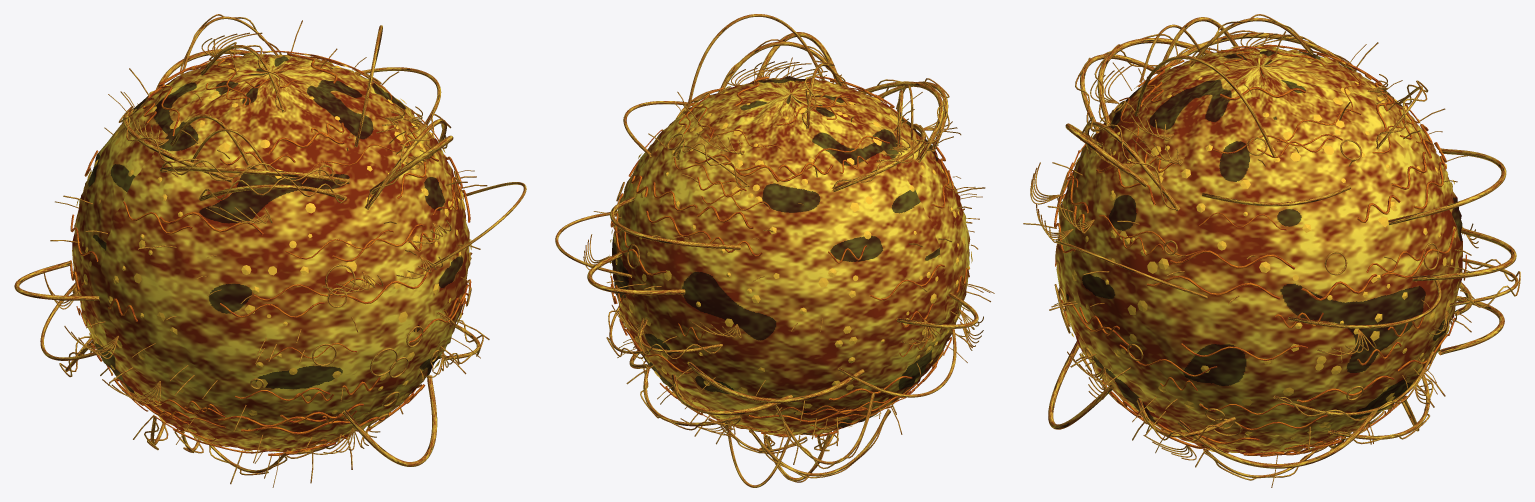
File: sun.obj
3 renders of one model, left to right at view 1: azimuth 30°, elevation 25°; view 2: azimuth 150°, elevation 25°; view 3: azimuth 270°, elevation 25°, orthographic. The views are drawn at different scales.
Parts seen in each view (by area): view 1: 01_|_Fotosfera_rugosa, 02_|_Granulos_en_relieve, 04_|_Arco_solar_23, 04_|_Arco_solar_00, 04_|_Arco_solar_05, 04_|_Arco_solar_30, 04_|_Arco_solar_18, 04_|_Arco_solar_22, 04_|_Arco_solar_11, 04_|_Arco_solar_03; view 2: 01_|_Fotosfera_rugosa, 02_|_Granulos_en_relieve, 04_|_Arco_solar_29, 04_|_Arco_solar_25, 04_|_Arco_solar_13, 04_|_Arco_solar_07, 04_|_Arco_solar_00, 04_|_Arco_solar_31, 04_|_Arco_solar_03, 04_|_Arco_solar_10, 04_|_Arco_solar_18, 04_|_Arco_solar_22 (+5 smaller); view 3: 01_|_Fotosfera_rugosa, 02_|_Granulos_en_relieve, 04_|_Arco_solar_21, 04_|_Arco_solar_25, 04_|_Arco_solar_13, 04_|_Arco_solar_23, 04_|_Arco_solar_00, 04_|_Arco_solar_07, 04_|_Arco_solar_22, 04_|_Arco_solar_15, 04_|_Arco_solar_18, 04_|_Arco_solar_27 (+6 smaller).
Part boxes in pixels (box(x1,y1,x2,y2)): 01_|_Fotosfera_rugosa: box(72, 54, 471, 451); 02_|_Granulos_en_relieve: box(73, 50, 471, 453); 04_|_Arco_solar_23: box(342, 375, 437, 466); 04_|_Arco_solar_00: box(160, 166, 349, 184); 04_|_Arco_solar_05: box(14, 261, 99, 300); 04_|_Arco_solar_30: box(199, 184, 346, 201); 04_|_Arco_solar_18: box(364, 119, 446, 209); 04_|_Arco_solar_22: box(122, 109, 233, 182); 04_|_Arco_solar_11: box(425, 182, 526, 270); 04_|_Arco_solar_03: box(40, 282, 115, 360); 01_|_Fotosfera_rugosa: box(611, 76, 970, 435); 02_|_Granulos_en_relieve: box(609, 76, 972, 437); 04_|_Arco_solar_29: box(688, 362, 864, 403); 04_|_Arco_solar_25: box(610, 197, 740, 249); 04_|_Arco_solar_13: box(587, 252, 685, 295); 04_|_Arco_solar_07: box(686, 14, 824, 107); 04_|_Arco_solar_00: box(861, 81, 943, 162); 04_|_Arco_solar_31: box(671, 374, 792, 415); 04_|_Arco_solar_03: box(838, 329, 956, 397); 04_|_Arco_solar_10: box(748, 409, 890, 476); 04_|_Arco_solar_18: box(718, 41, 845, 92); 04_|_Arco_solar_22: box(832, 123, 925, 192); 01_|_Fotosfera_rugosa: box(1055, 46, 1462, 454); 02_|_Granulos_en_relieve: box(1057, 45, 1464, 454); 04_|_Arco_solar_21: box(1178, 411, 1377, 468); 04_|_Arco_solar_25: box(1388, 148, 1506, 225); 04_|_Arco_solar_13: box(1412, 228, 1516, 281); 04_|_Arco_solar_23: box(1048, 341, 1113, 429); 04_|_Arco_solar_00: box(1097, 38, 1213, 125); 04_|_Arco_solar_07: box(1134, 55, 1276, 157); 04_|_Arco_solar_22: box(1158, 32, 1356, 74); 04_|_Arco_solar_15: box(1288, 280, 1441, 328); 04_|_Arco_solar_18: box(1084, 121, 1180, 210); 04_|_Arco_solar_27: box(1065, 123, 1148, 186).
Bounding box in the file's own units: 7.52 × 7.41 × 7.38.
